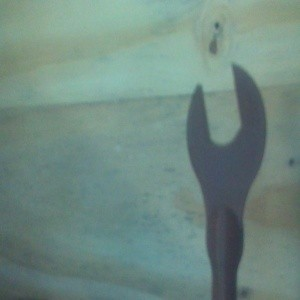spanner: (185, 62, 268, 300)
